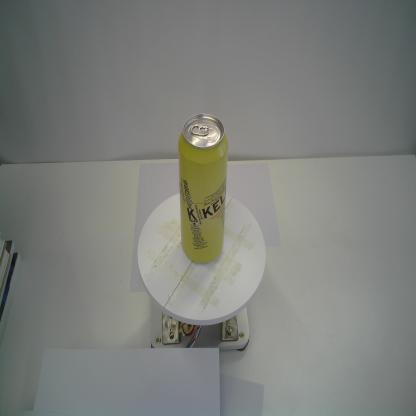Alcohol: (177, 113, 229, 266)
